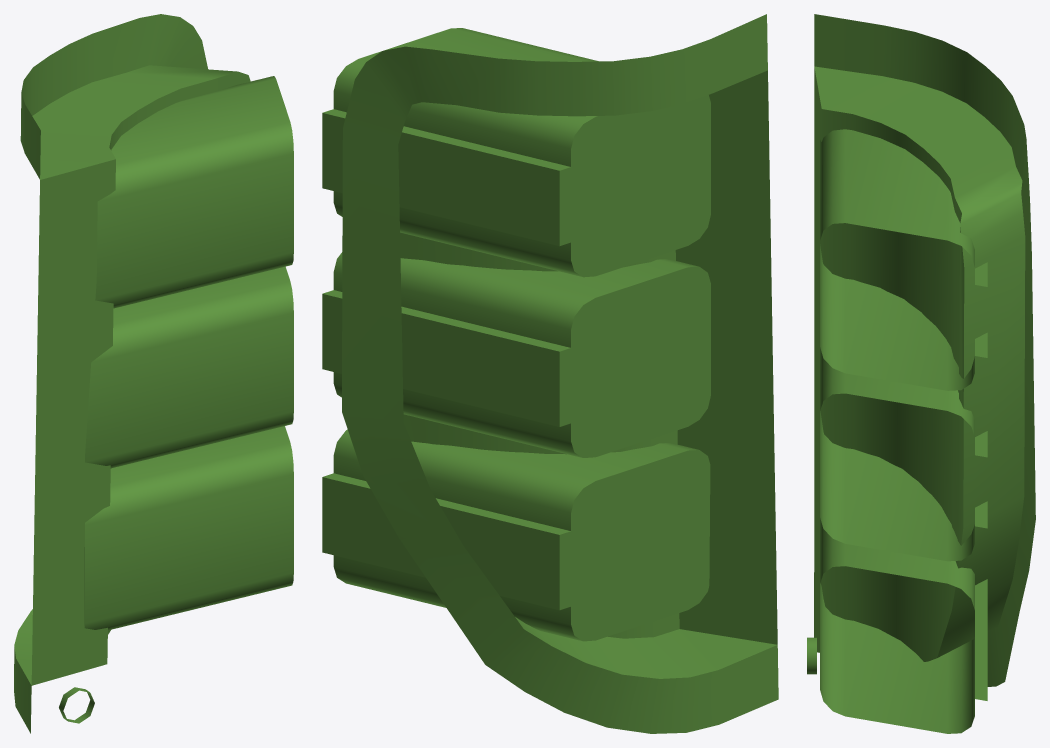
File: SM_Default_TailLight.fbx
3 renders of one model, left to right at view 1: azimuth 30°, elevation 25°; view 2: azimuth 150°, elevation 25°; view 3: azimuth 270°, elevation 25°, orthographic. The views are drawn at different scales.
Parts seen in each view (by area): view 1: PTN_4X4_GB_14_001.019; view 2: PTN_4X4_GB_14_001.019; view 3: PTN_4X4_GB_14_001.019.
Boxes of the visible parts, x1,y1,x2,y2 form: PTN_4X4_GB_14_001.019: (14,14,293,733); PTN_4X4_GB_14_001.019: (322,14,778,733); PTN_4X4_GB_14_001.019: (807,14,1035,733).
Size of the model in its own units: 23.95 by 43.03 by 13.82.
